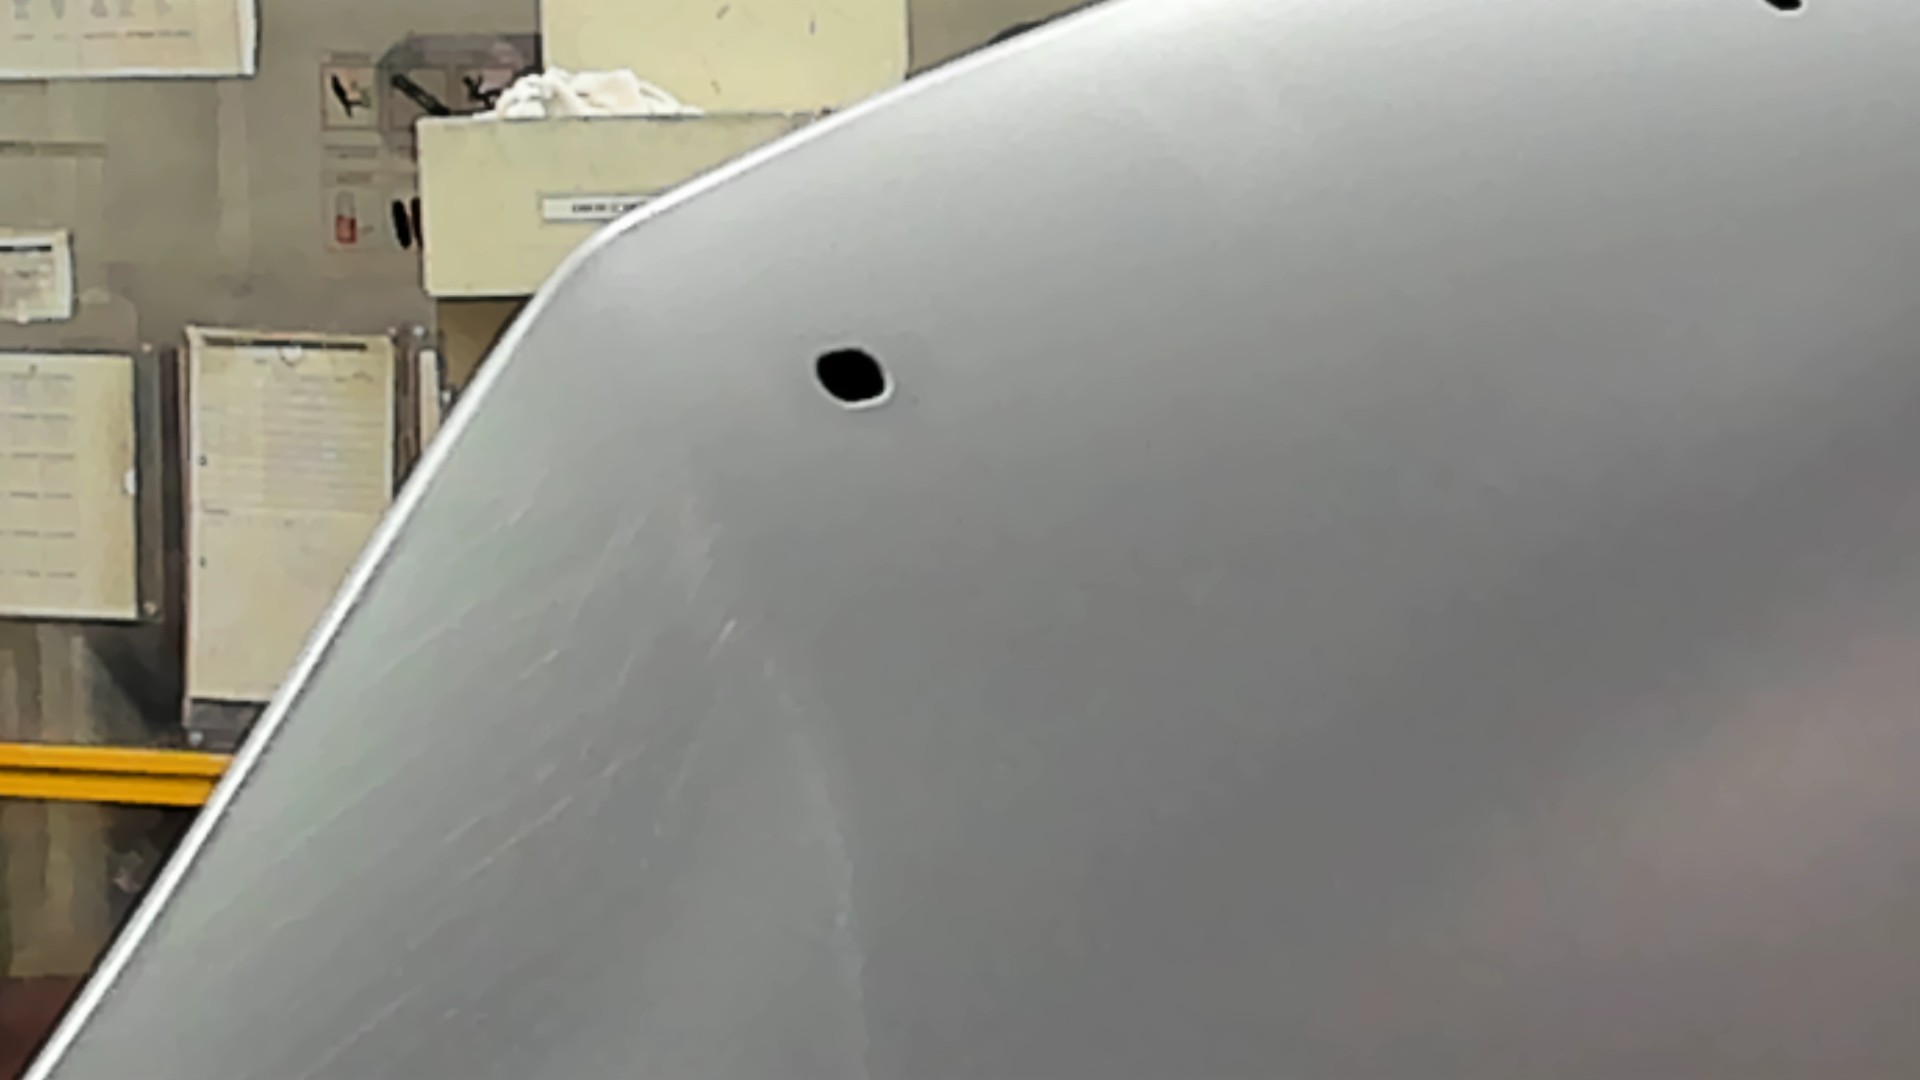amorfo: (802, 342, 901, 415), (1755, 1, 1813, 22)
